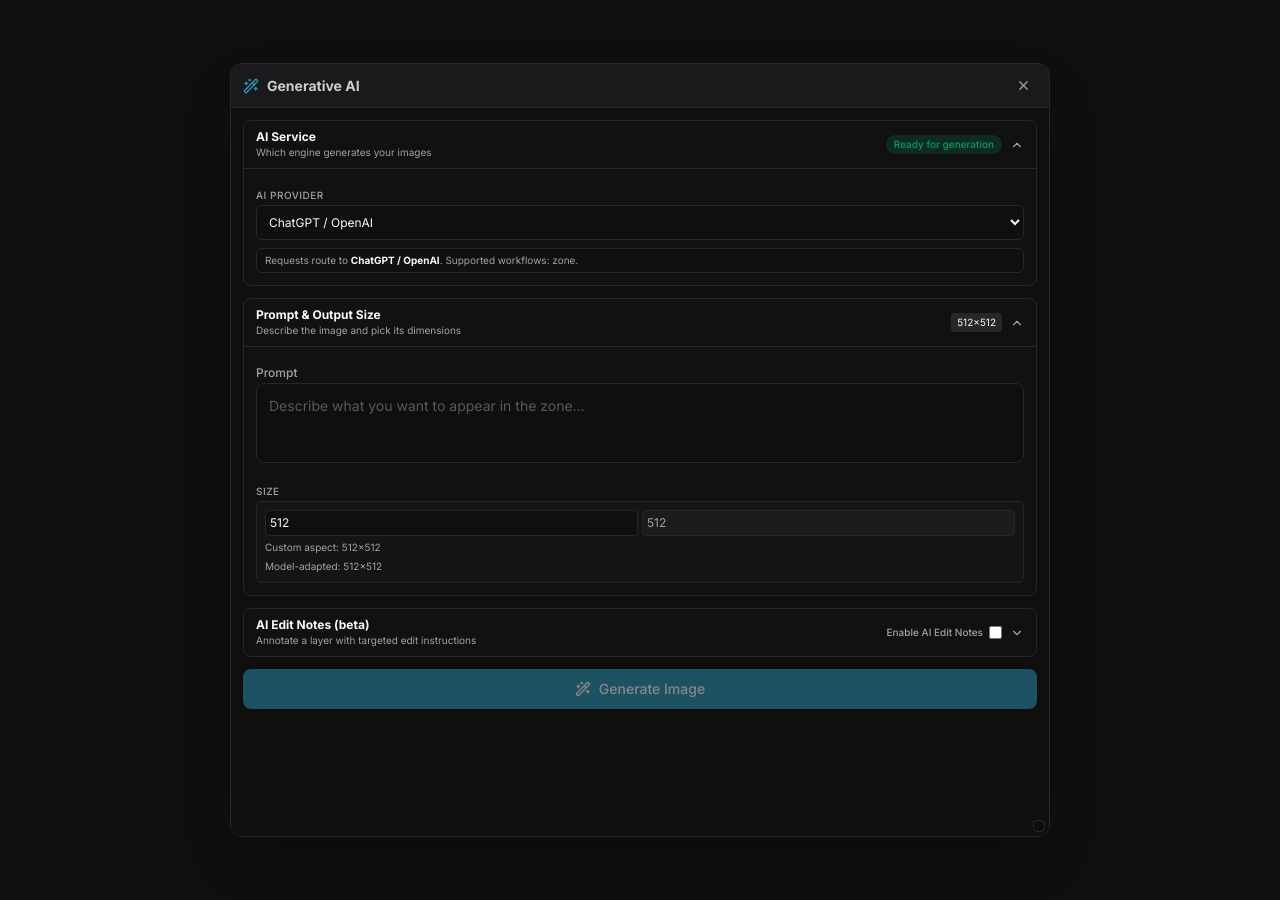
it: ImageGeneratorModal › shows error message when generation fails
Type "Bad request" into the text box with placeholder "Describe what you want to appear in the zone…" at (640, 423), box 256,383 -> 1024,463
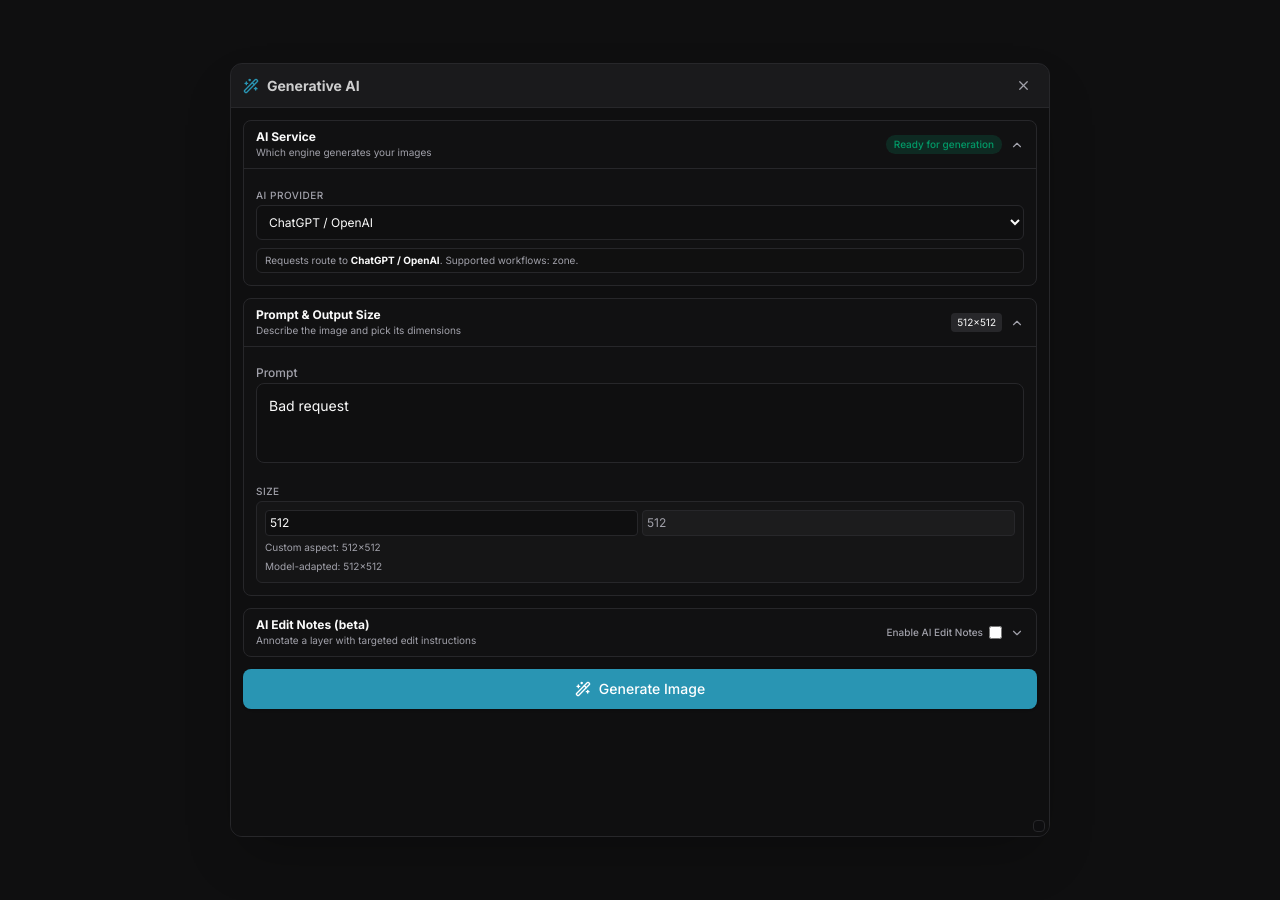
Click the button "Generate Image" at (640, 689), box 243,669 -> 1037,709
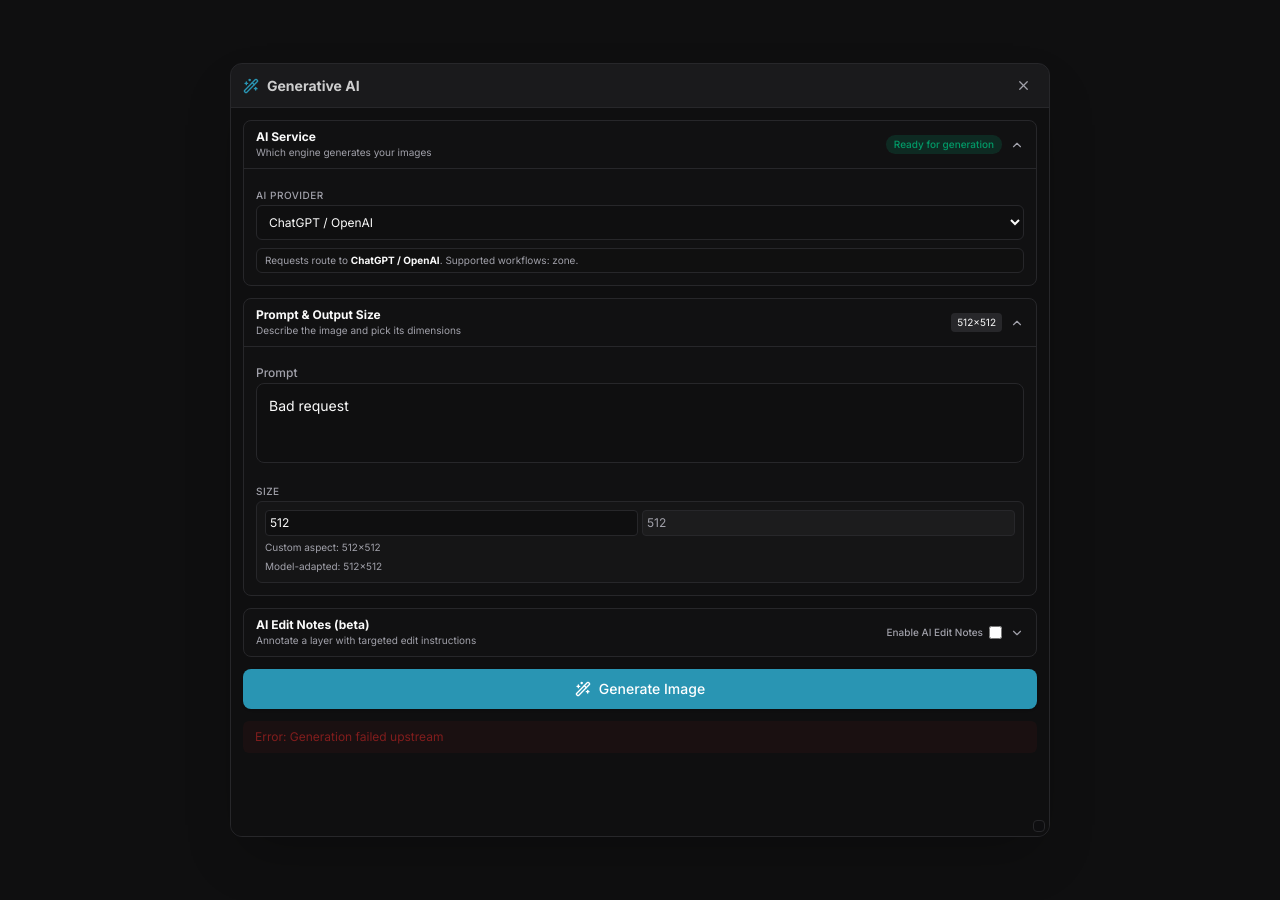
Expected: the text "Error: Generation failed upstream" is shown, 255,729 -> 444,745
